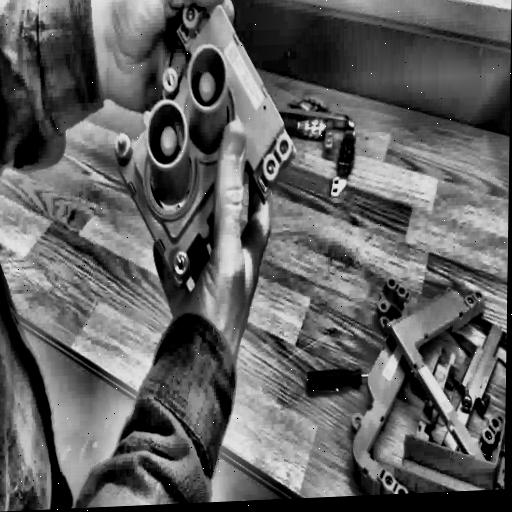connector: (109, 0, 298, 297)
